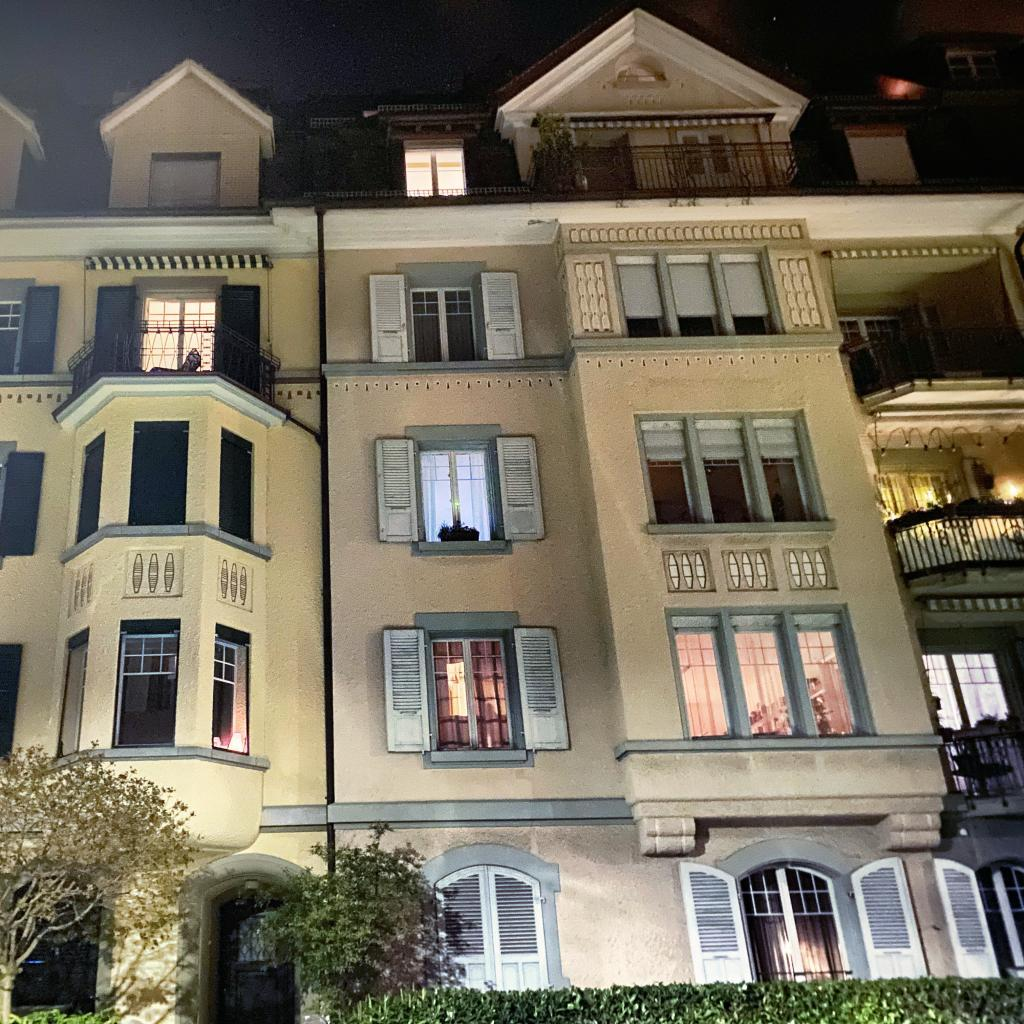balcony-fence: (64, 319, 283, 403), (837, 319, 1024, 404), (581, 138, 833, 195), (942, 729, 1024, 796)
facade: (0, 0, 1024, 1024)
vegetation: (232, 817, 1024, 1024), (0, 739, 206, 1024), (530, 104, 593, 194), (889, 495, 1024, 529), (437, 519, 481, 540)
window: (666, 604, 875, 740), (634, 410, 826, 525), (920, 650, 1024, 796), (612, 250, 782, 338), (434, 862, 550, 989), (737, 863, 850, 982), (430, 636, 517, 751), (877, 472, 971, 565), (418, 441, 501, 541), (113, 633, 180, 748), (836, 315, 918, 392), (139, 291, 216, 372), (977, 861, 1024, 980), (129, 431, 188, 525), (410, 286, 478, 362), (229, 906, 294, 964), (847, 135, 921, 185), (219, 438, 252, 542), (149, 159, 219, 207), (676, 130, 735, 186), (404, 147, 465, 197), (77, 440, 104, 545), (212, 640, 237, 750), (945, 51, 1000, 79), (74, 645, 88, 750)
